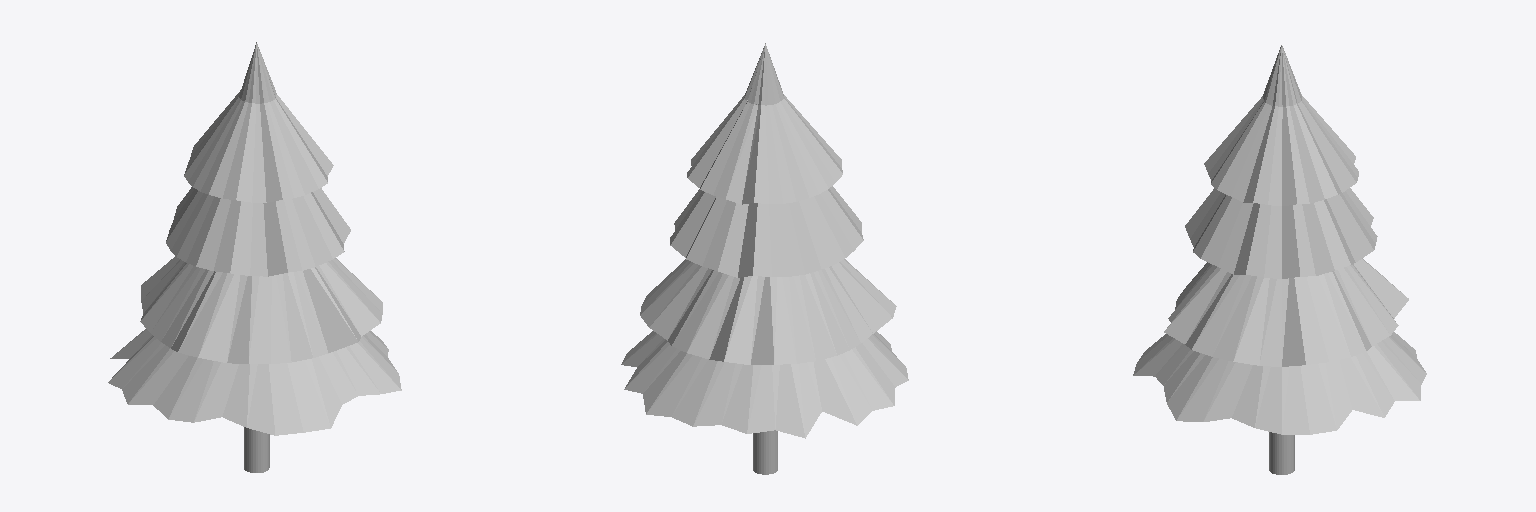
Rendered from TreeConifer.obj.
3 renders of one model, left to right at view 1: azimuth 30°, elevation 25°; view 2: azimuth 150°, elevation 25°; view 3: azimuth 270°, elevation 25°, orthographic.
Parts seen in each view (by area): view 1: Cylinder, Cylinder.001; view 2: Cylinder, Cylinder.001; view 3: Cylinder, Cylinder.001.
Boxes of the visible parts, x1,y1,x2,y2 form: Cylinder: [108, 42, 401, 435]; Cylinder.001: [244, 427, 269, 472]; Cylinder: [621, 43, 908, 438]; Cylinder.001: [753, 430, 777, 474]; Cylinder: [1133, 45, 1426, 434]; Cylinder.001: [1269, 432, 1294, 474].
Bounding box in the file's own units: 0.6953 × 1.11 × 0.6953.